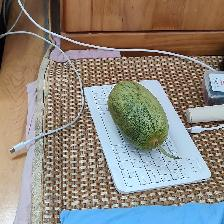gua: (107, 83, 167, 154)
